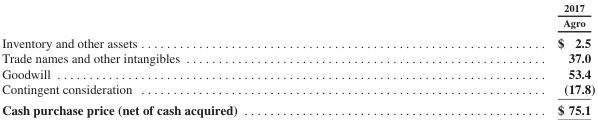table: (1, 1, 594, 116)
table column: (1, 1, 396, 116), (396, 1, 594, 116)
table column header: (1, 1, 594, 31)
table row: (1, 1, 594, 31), (1, 31, 594, 50), (1, 81, 594, 99), (1, 99, 594, 116), (1, 65, 594, 81), (1, 50, 594, 65)
